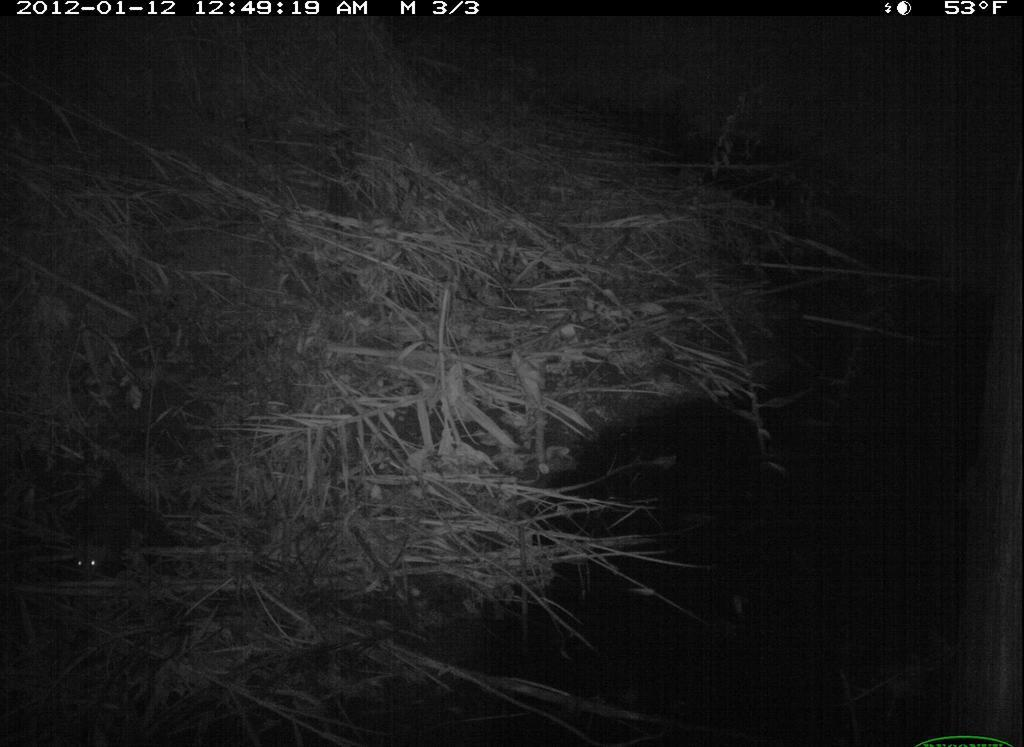opossum: (65, 450, 159, 583)
